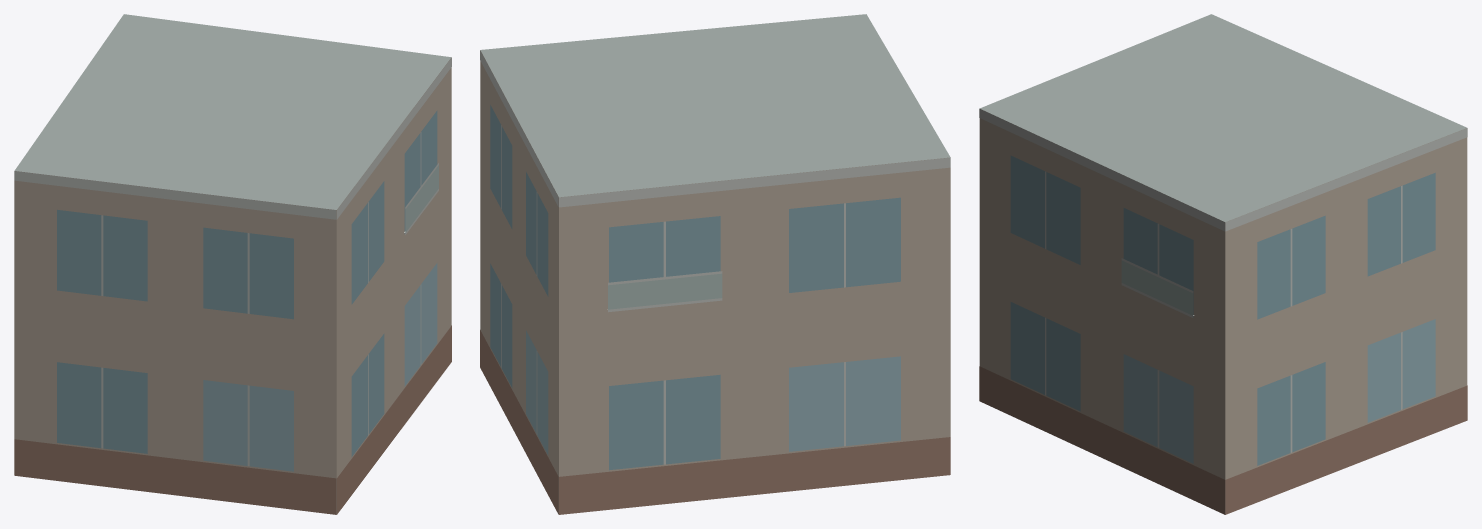
The model's file is survey-upis-32974725.glb.
3 views of the same model, side by side, from view 1: azimuth 30°, elevation 25°; view 2: azimuth 150°, elevation 25°; view 3: azimuth 270°, elevation 25° (orthographic). The views are drawn at different scales.
Parts seen in each view (by area): view 1: survey-upis-32974725.tmp; view 2: survey-upis-32974725.tmp; view 3: survey-upis-32974725.tmp.
Part boxes in pixels (x1,y1,x2,y2): survey-upis-32974725.tmp: (14, 14, 451, 514); survey-upis-32974725.tmp: (480, 14, 950, 514); survey-upis-32974725.tmp: (979, 14, 1467, 514).
Size of the model in its own units: 11.6 by 7.6 by 11.49.
